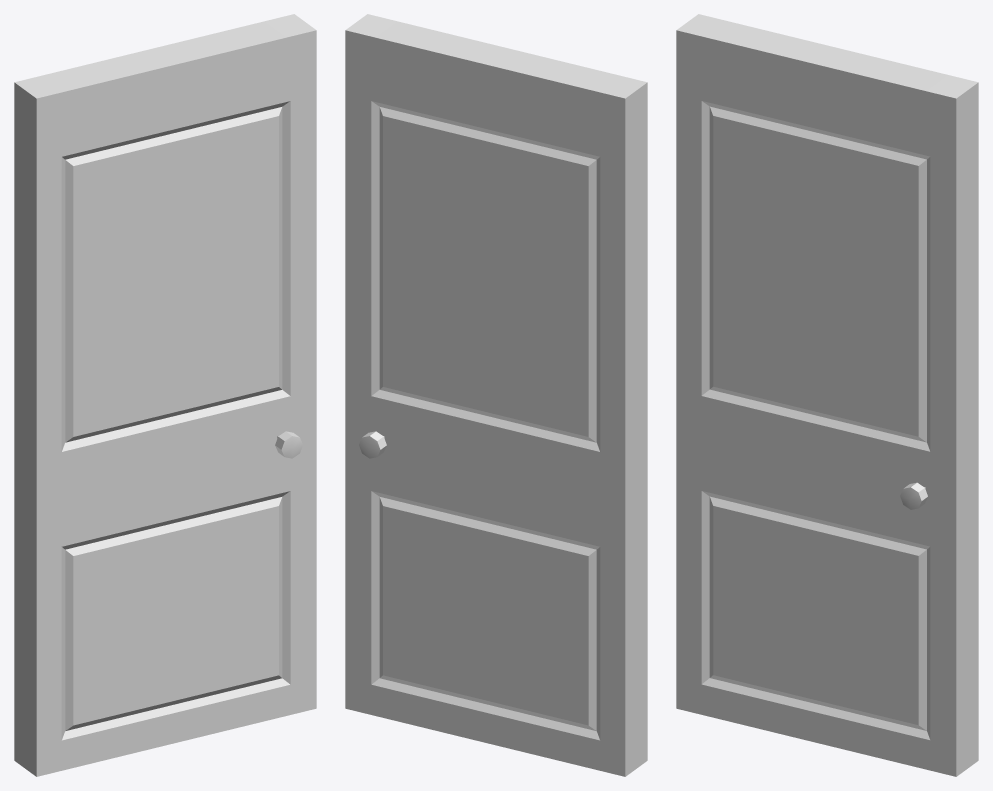
The model's file is door_017.glb.
3 renders of one model, left to right at view 1: azimuth 30°, elevation 25°; view 2: azimuth 150°, elevation 25°; view 3: azimuth 330°, elevation 25°, orthographic.
Parts seen in each view (by area): view 1: door_017; view 2: door_017; view 3: door_017.
Part boxes in pixels (box(x1,y1,x2,y2)): door_017: box(14, 14, 316, 776); door_017: box(345, 14, 647, 776); door_017: box(676, 14, 978, 776).
Size of the model in its own units: 1.05 by 2.42 by 0.2959.
Materials: 1 (1 with a texture image).
